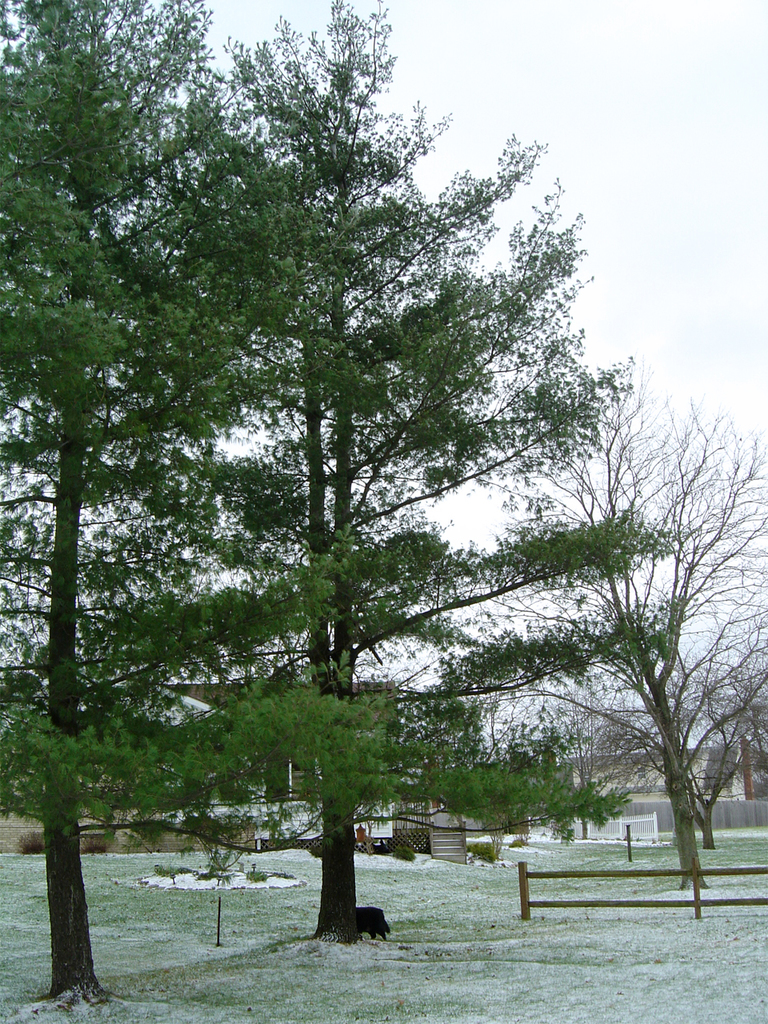Tree: (0, 0, 768, 1001)
